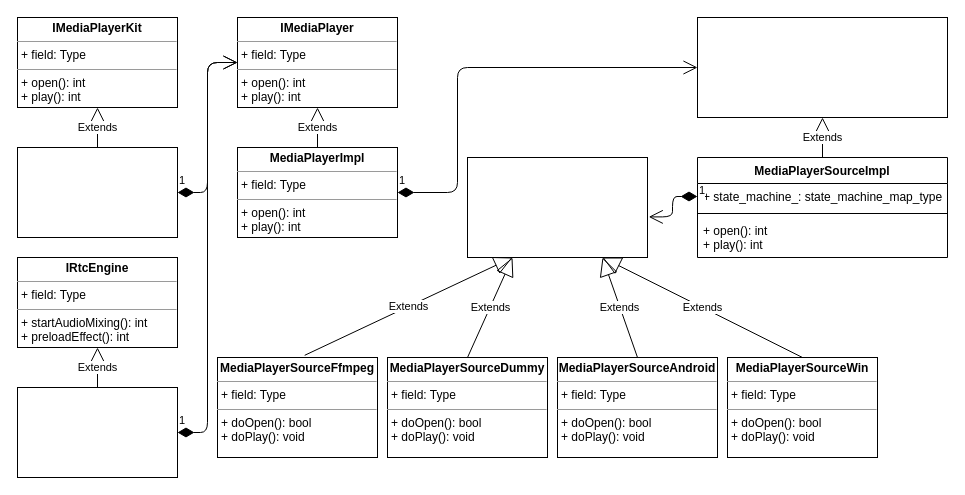
Some shapes in this 965 by 495 pixel diagram are drawn without their labels. The shapes that lost their labels are listed below. From the top down, each one's centre as x and y in pixels, then its label:
At (x=822, y=67): "IMediaPlayerSource + field: Type + open(): int + play(): int".
At (x=97, y=192): "MediaPlayerKitImpl + field: Type + open(): int + play(): int".
At (x=557, y=207): "IMediaPlayerSourceGeneric + field: Type + doOpen(): bool + doPlay(): void".
At (x=97, y=432): "RtcEngine + field: Type + startAudioMixing(): int + preloadEffect(): int".
